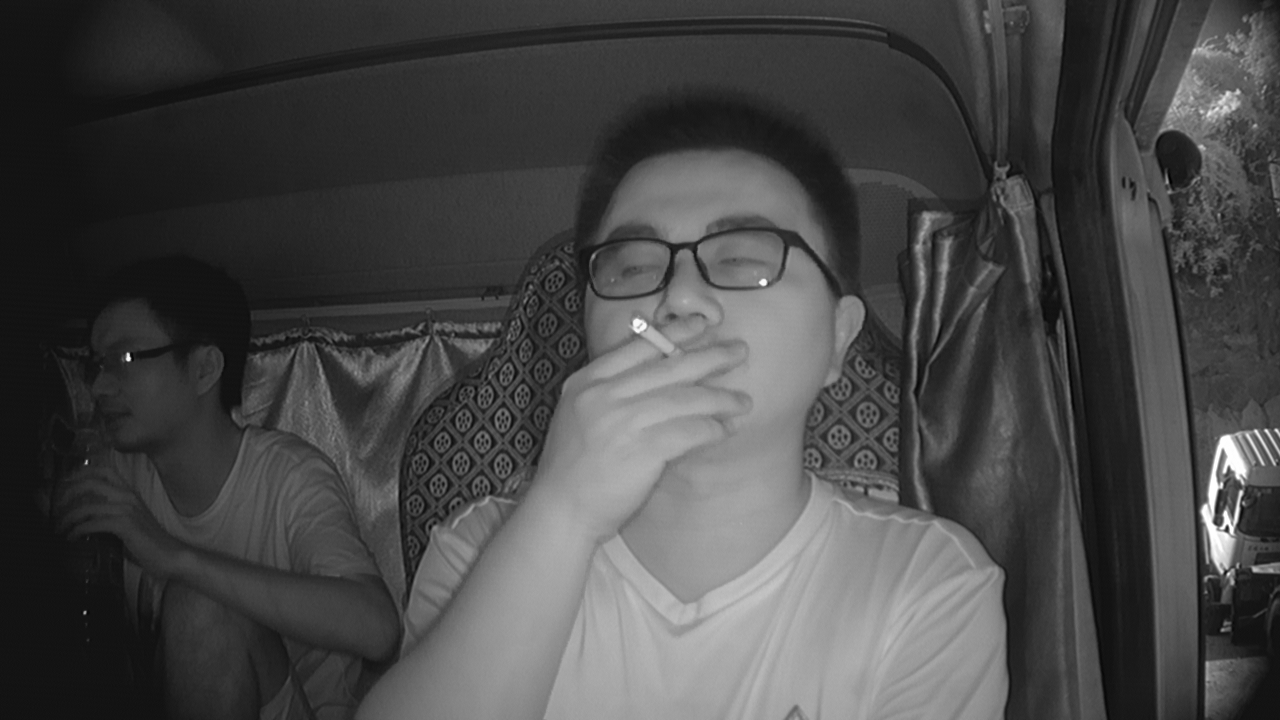hand: (587, 306, 739, 472)
